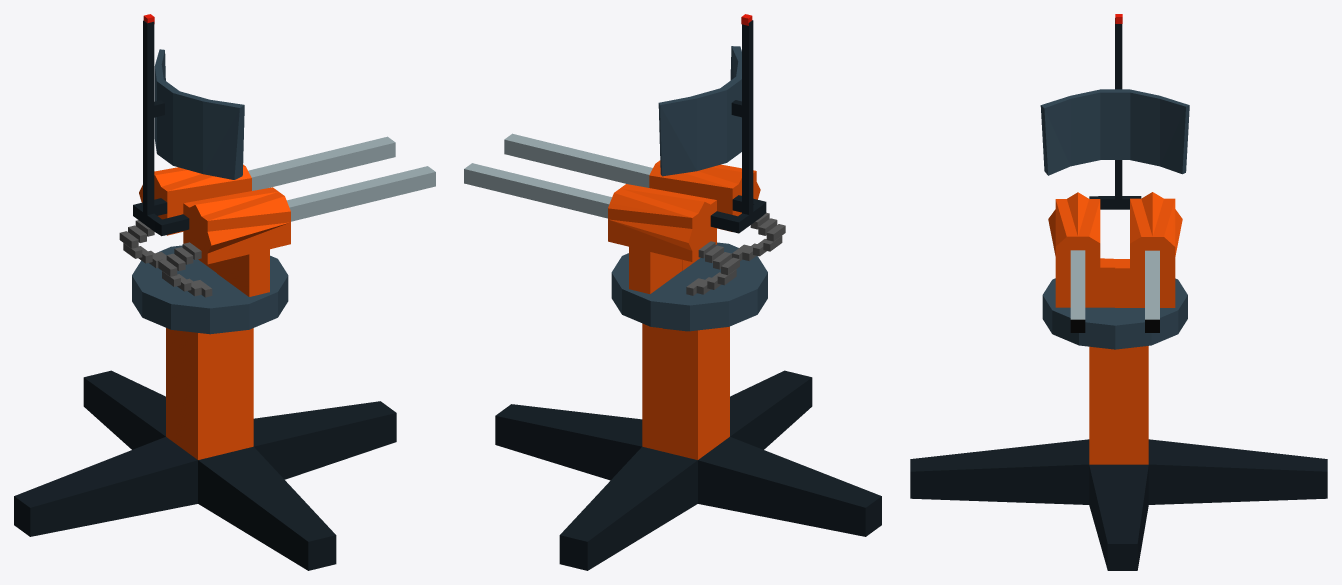
The model's file is turret.obj.
The picture shows the model from 3 angles, left to right: view 1: azimuth 30°, elevation 25°; view 2: azimuth 150°, elevation 25°; view 3: azimuth 270°, elevation 25°; orthographic projection. The views are drawn at different scales.
Parts seen in each view (by area): view 1: group508397783, group1944382890, group1337905192, group1525033053, group1180747549, group788574077, group1679236059, group1488461618, group1768503584, group1162726311, group98759565, group1667378180 (+1 smaller); view 2: group1679236059, group1944382890, group508397783, group1488461618, group1180747549, group788574077, group1337905192, group1768503584, group1162726311, group1525033053, group960216065, group876765673 (+1 smaller); view 3: group1488461618, group1337905192, group1944382890, group1679236059, group788574077, group1525033053, group1180747549, group1667378180, group510262354, group876765673, group98759565, group960216065 (+2 smaller).
Part boxes in pixels (x1=…): group508397783: x1=14, y1=437, x2=197, y2=536; group1944382890: x1=166, y1=328, x2=253, y2=459; group1337905192: x1=198, y1=446, x2=336, y2=570; group1525033053: x1=155, y1=187, x2=290, y2=296; group1180747549: x1=132, y1=245, x2=288, y2=334; group788574077: x1=253, y1=401, x2=396, y2=479; group1679236059: x1=133, y1=20, x2=251, y2=272; group1488461618: x1=83, y1=370, x2=165, y2=449; group1768503584: x1=286, y1=166, x2=435, y2=221; group1162726311: x1=248, y1=136, x2=395, y2=190; group98759565: x1=203, y1=99, x2=244, y2=179; group1667378180: x1=173, y1=91, x2=209, y2=173; group1679236059: x1=608, y1=20, x2=761, y2=293; group1944382890: x1=642, y1=323, x2=729, y2=459; group508397783: x1=698, y1=437, x2=881, y2=536; group1488461618: x1=559, y1=446, x2=697, y2=570; group1180747549: x1=611, y1=242, x2=767, y2=331; group788574077: x1=495, y1=404, x2=642, y2=480; group1337905192: x1=730, y1=370, x2=812, y2=449; group1768503584: x1=504, y1=133, x2=652, y2=187; group1162726311: x1=464, y1=163, x2=611, y2=218; group1525033053: x1=649, y1=160, x2=766, y2=270; group960216065: x1=658, y1=97, x2=696, y2=176; group876765673: x1=690, y1=88, x2=726, y2=170; group1488461618: x1=1148, y1=439, x2=1327, y2=504; group1337905192: x1=910, y1=439, x2=1089, y2=504; group1944382890: x1=1089, y1=346, x2=1148, y2=464; group1679236059: x1=1099, y1=18, x2=1182, y2=307; group788574077: x1=1089, y1=464, x2=1148, y2=570; group1525033053: x1=1048, y1=192, x2=1115, y2=307; group1180747549: x1=1042, y1=278, x2=1187, y2=349; group1667378180: x1=1070, y1=89, x2=1100, y2=166; group510262354: x1=1100, y1=89, x2=1130, y2=159; group876765673: x1=1130, y1=89, x2=1159, y2=166; group98759565: x1=1040, y1=96, x2=1070, y2=175; group960216065: x1=1160, y1=96, x2=1189, y2=174.
Bounding box in the file's own units: 1.12 × 1.33 × 1.12.
